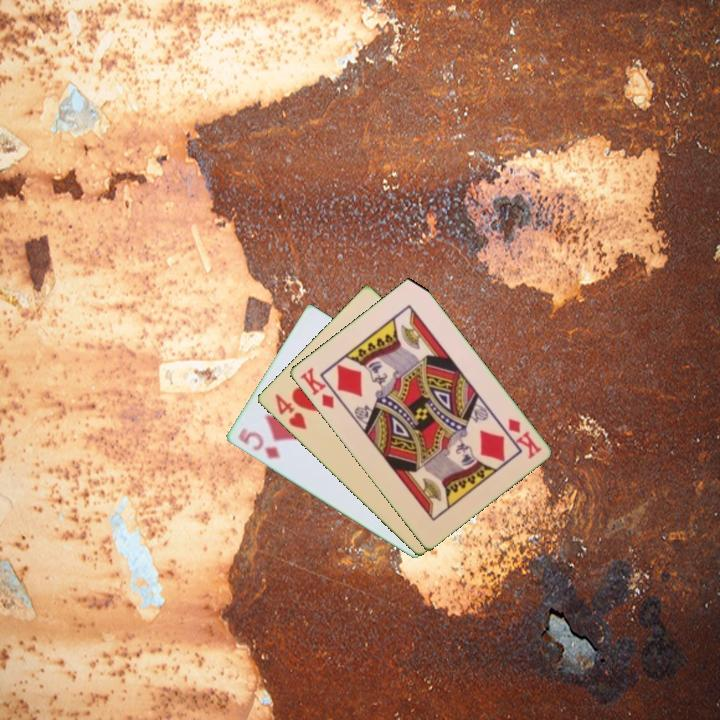4h: (271, 390, 309, 433)
5d: (234, 424, 283, 462)
Kd: (296, 364, 337, 412), (504, 415, 544, 462)
